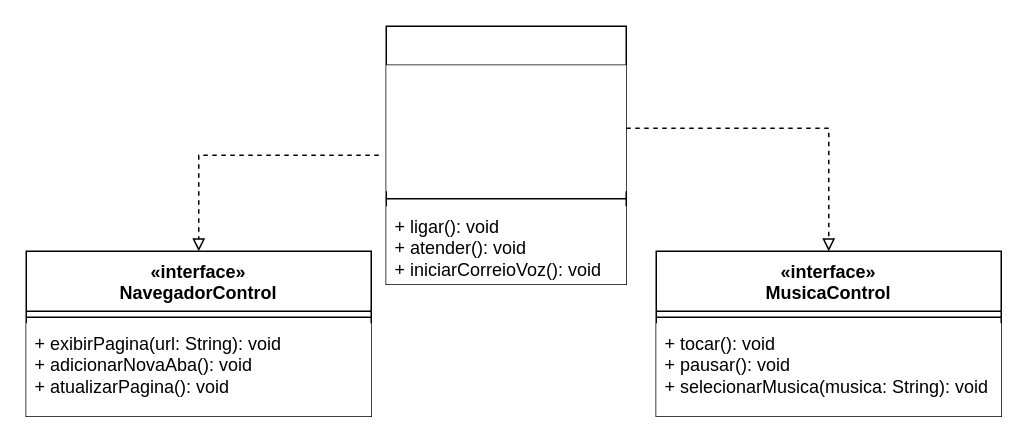
This 1028x447 diagram has some shape labels left out. The shapes that lost their labels are listed below. From the top down, each one's box as (x1, y1, x2, y2) in pixels, then its label:
(386, 64, 626, 190): + numero: String + cor: String - peso: Double - Altura: Double - Largura: Double
(385, 25, 626, 284): TelefoneControl
